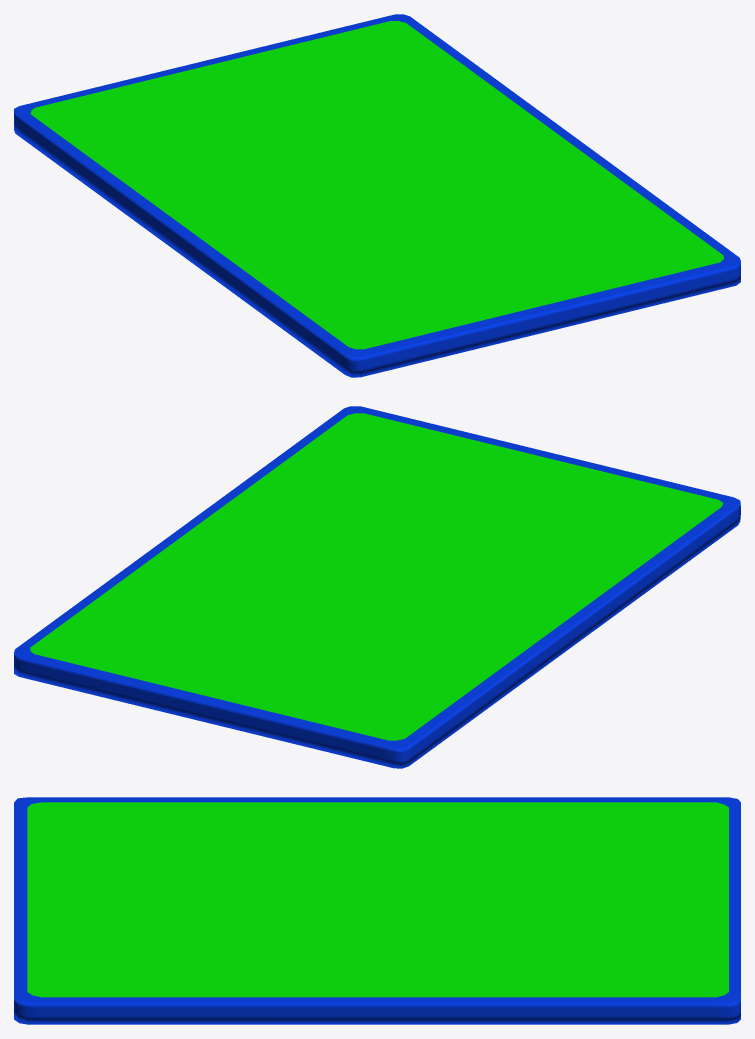
The model's file is MousePad.fbx.
3 renders of one model, top to bottom at view 1: azimuth 30°, elevation 25°; view 2: azimuth 150°, elevation 25°; view 3: azimuth 270°, elevation 25°, orthographic. The views are drawn at different scales.
Parts seen in each view (by area): view 1: Cube; view 2: Cube; view 3: Cube.
Part boxes in pixels (bbox=[...]): Cube: bbox=[14, 14, 740, 377]; Cube: bbox=[14, 406, 740, 768]; Cube: bbox=[14, 797, 740, 1024].
Bounding box in the file's own units: 2 × 0.1026 × 3.
